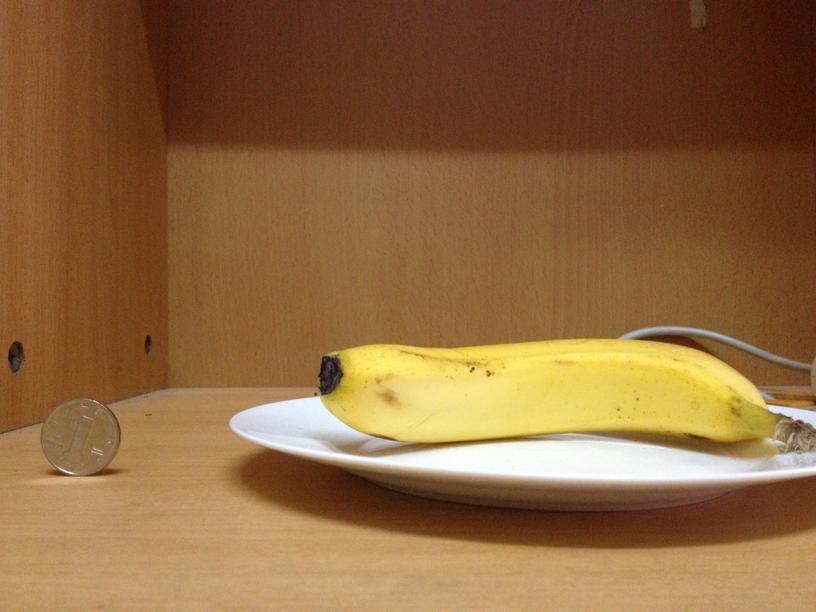banana: (316, 336, 759, 445)
coin: (43, 399, 120, 477)
